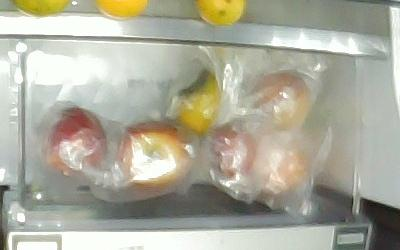apple_vinyl: (115, 119, 194, 192), (43, 103, 107, 176)
persimmon_vinyl: (175, 69, 221, 134)
prune_vinyl: (251, 69, 311, 131), (209, 123, 257, 177)
